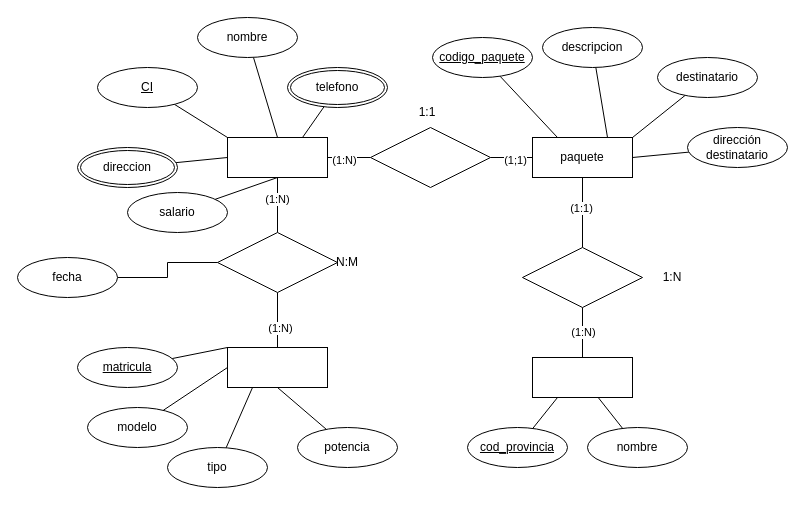
The diagram is 805 pixels wide and 505 high, and some of its shapes have lost their labels. Each missing label, with the box of its shape:
camion: (226, 346, 328, 388)
camionero: (226, 136, 328, 178)
llega: (522, 246, 642, 308)
maneja: (216, 232, 338, 292)
provincia: (532, 356, 632, 398)
transporta: (370, 126, 490, 188)
